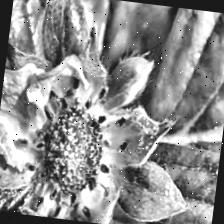Blossom Blight: (6, 68, 139, 224)
